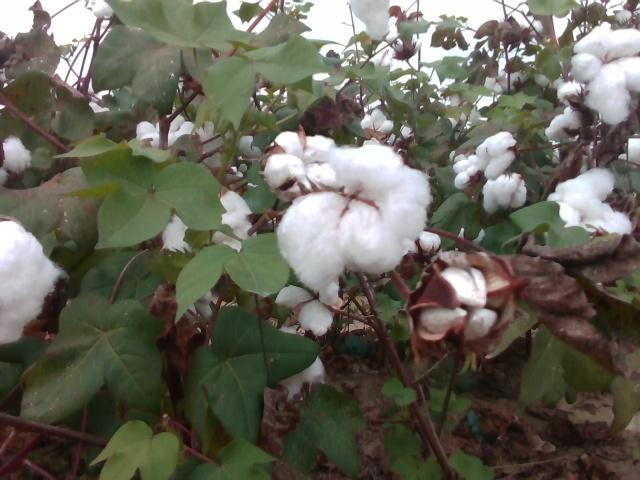cotton_ready: (277, 145, 433, 301), (410, 251, 508, 350), (0, 217, 66, 346), (571, 24, 640, 127), (548, 168, 633, 234), (264, 132, 340, 200), (275, 279, 337, 336), (215, 191, 257, 251), (477, 130, 517, 180), (484, 172, 527, 213), (0, 135, 31, 186), (455, 155, 480, 189)
